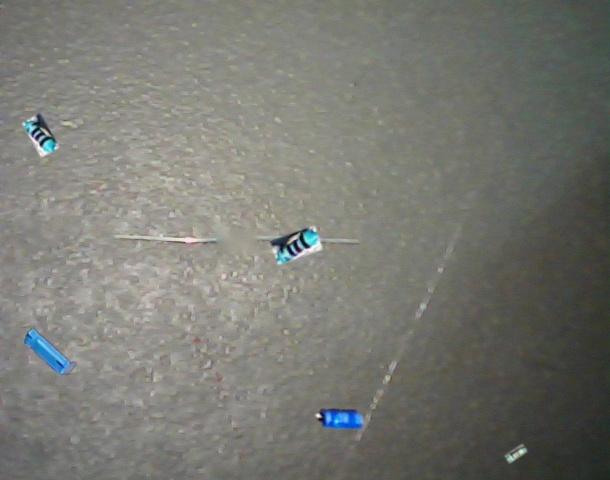capacitor: (23, 328, 76, 375), (315, 408, 363, 429)
resistor: (270, 226, 323, 265), (22, 114, 59, 157), (505, 444, 527, 463)
